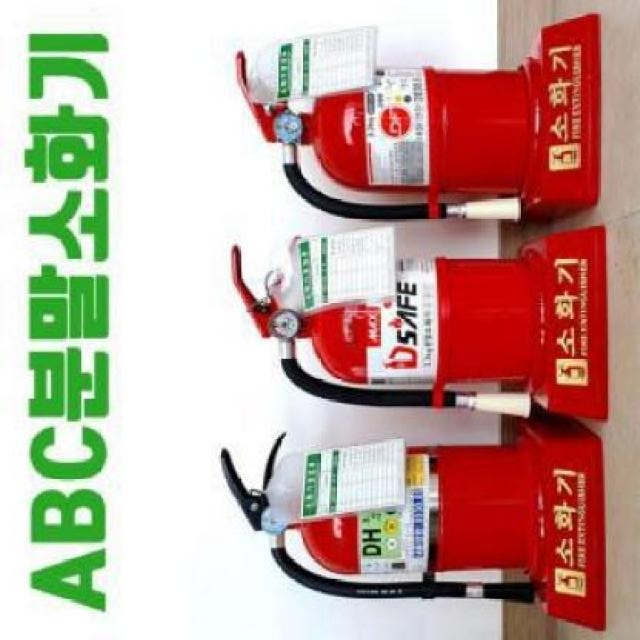fire extinguisher: (219, 431, 536, 606), (231, 235, 532, 419), (234, 49, 526, 223)
